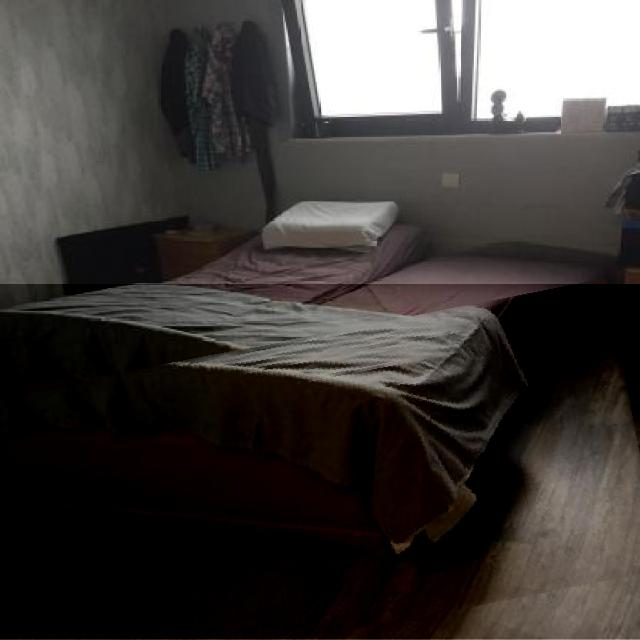floor: (0, 284, 640, 640)
